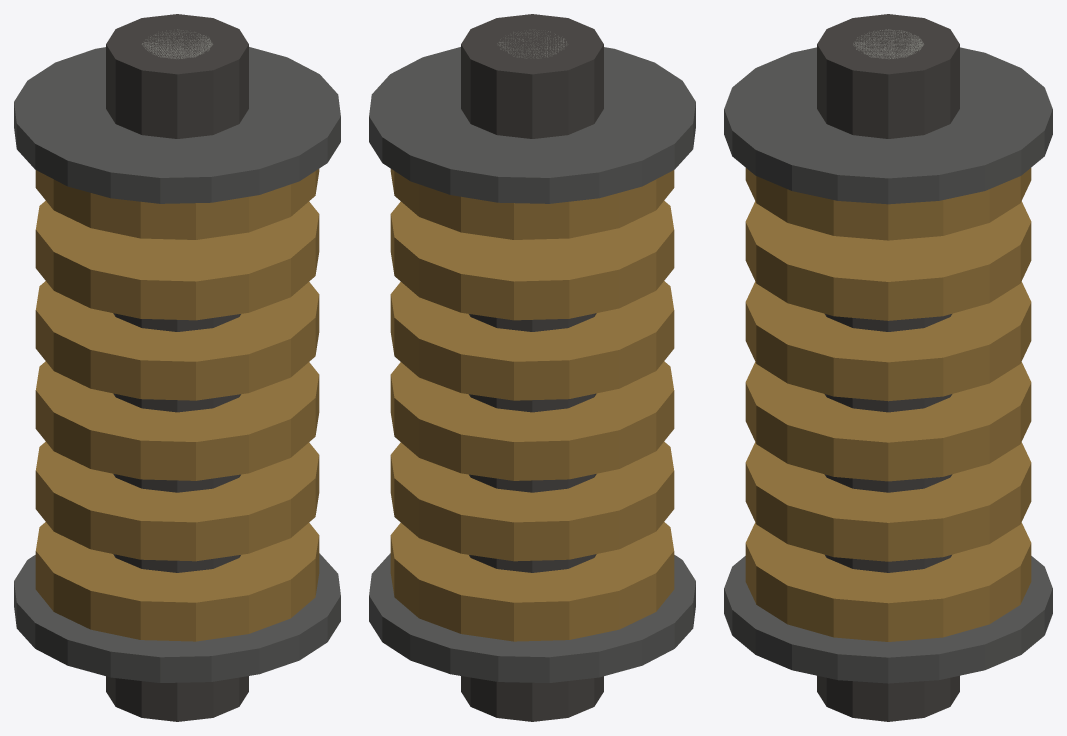
Rendered from coilover.glb.
3 renders of one model, left to right at view 1: azimuth 30°, elevation 25°; view 2: azimuth 150°, elevation 25°; view 3: azimuth 270°, elevation 25°, orthographic.
Parts seen in each view (by area): view 1: coilover; view 2: coilover; view 3: coilover.
Boxes of the visible parts, left/top/right/bottom form: coilover: left=14, top=14, right=340, bottom=721; coilover: left=369, top=14, right=695, bottom=721; coilover: left=724, top=14, right=1052, bottom=721.
Bounding box in the file's own units: 0.46 × 1 × 0.46.
